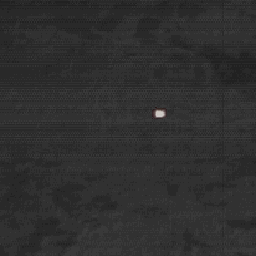Target: (154, 108, 164, 116)
